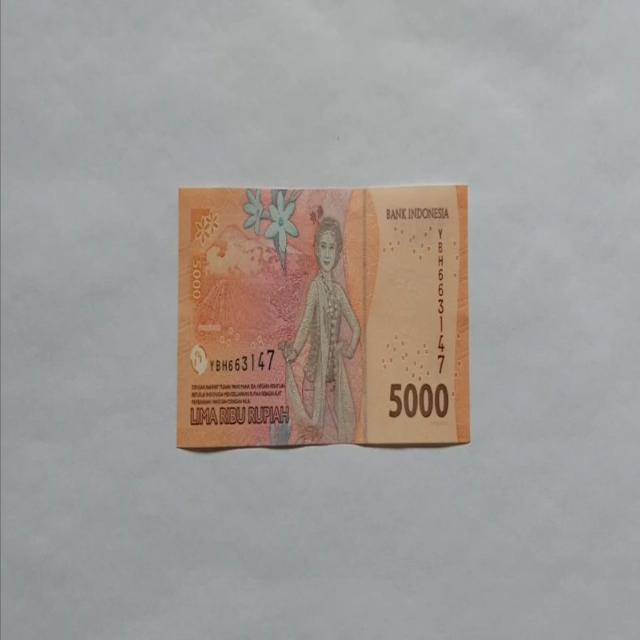lima ribu rupiah: (175, 183, 470, 451), (277, 215, 361, 445)
